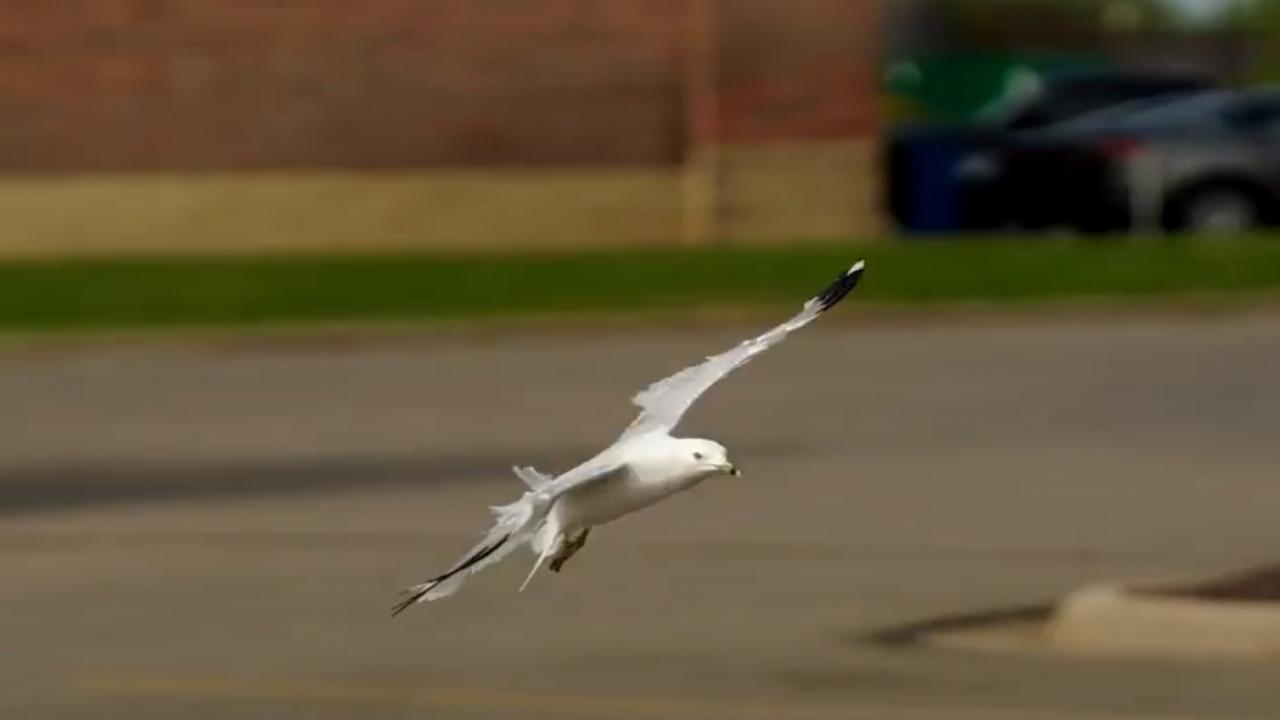Bird: (378, 247, 883, 628)
